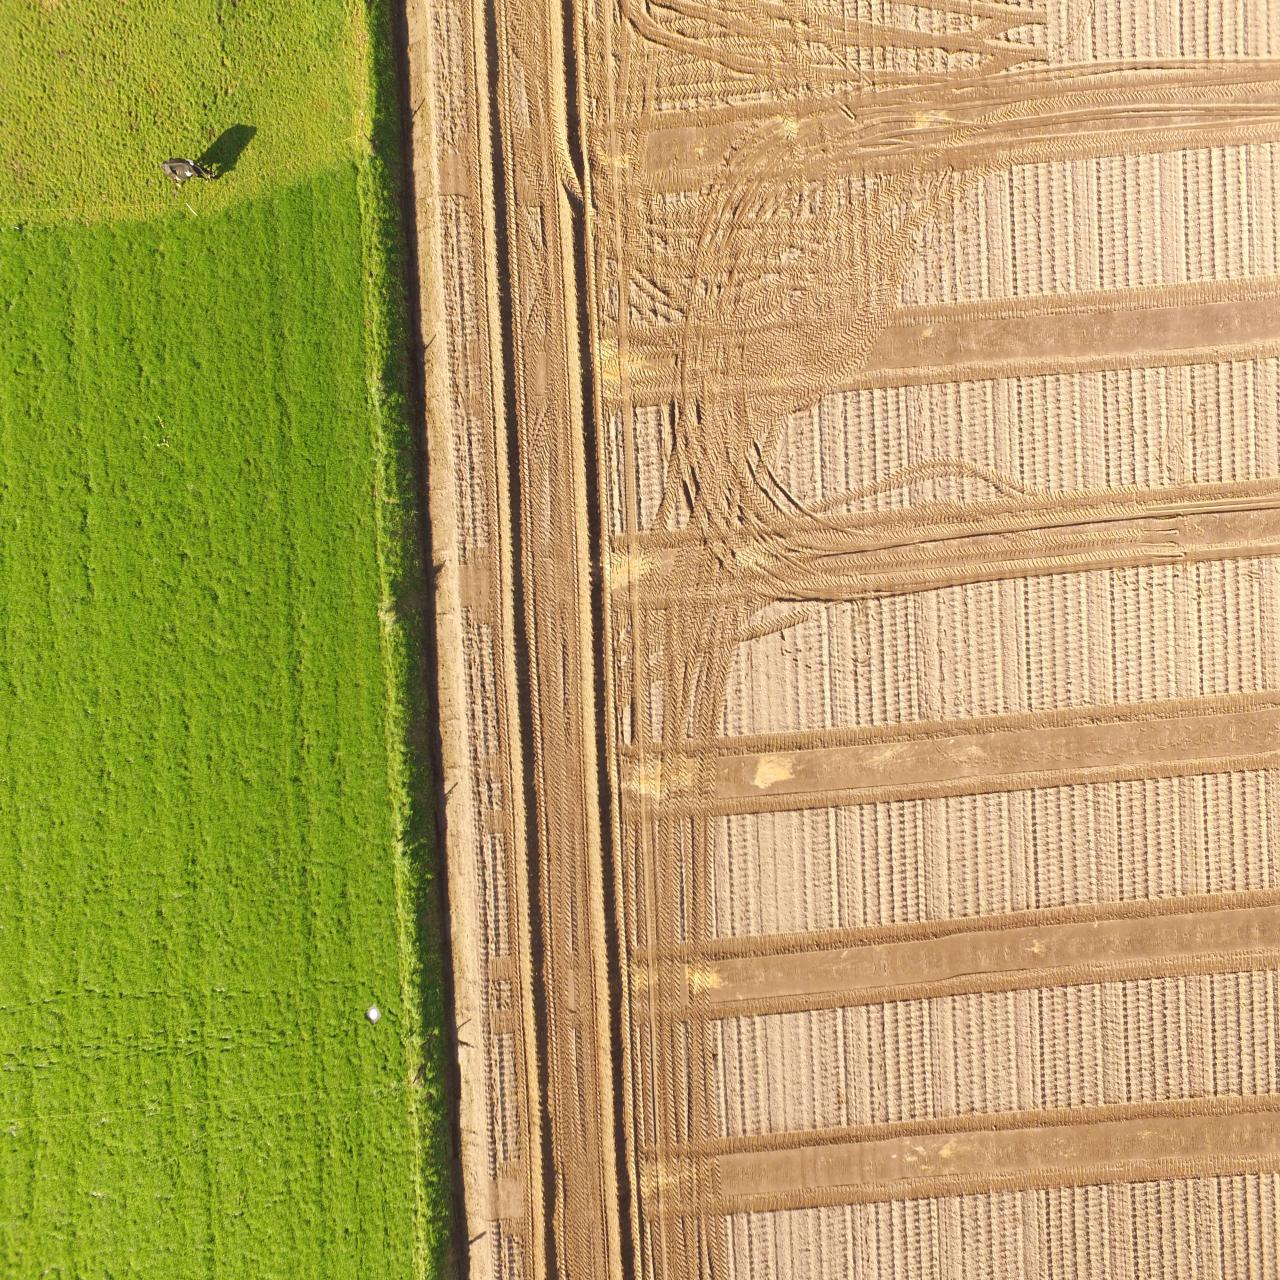cow: (157, 152, 216, 190)
